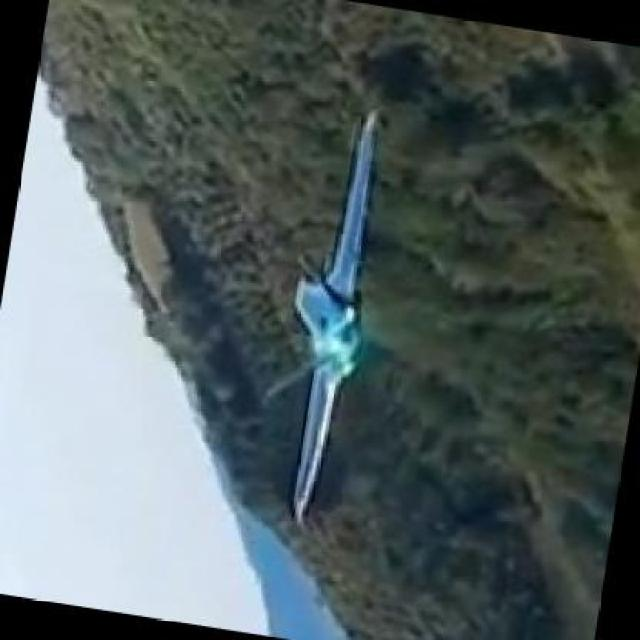iha: (318, 104, 360, 526)
